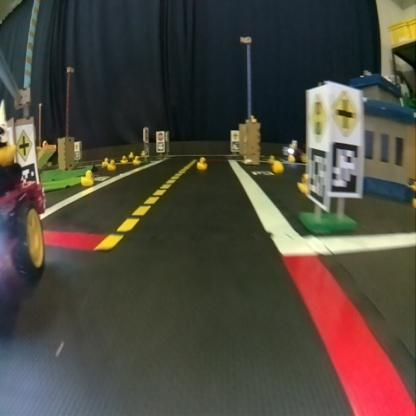duckie: (75, 162, 102, 196), (190, 149, 215, 183)
duckiebot: (2, 167, 55, 329)
